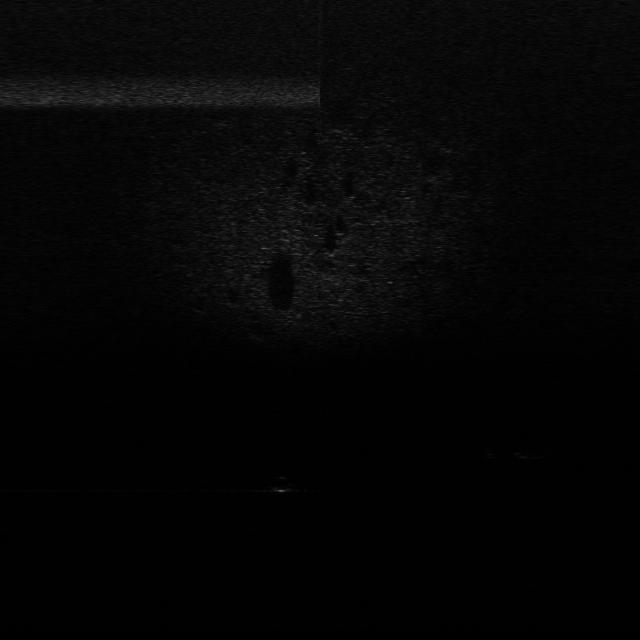ball: (264, 475, 302, 496)
human body: (484, 447, 562, 462)
